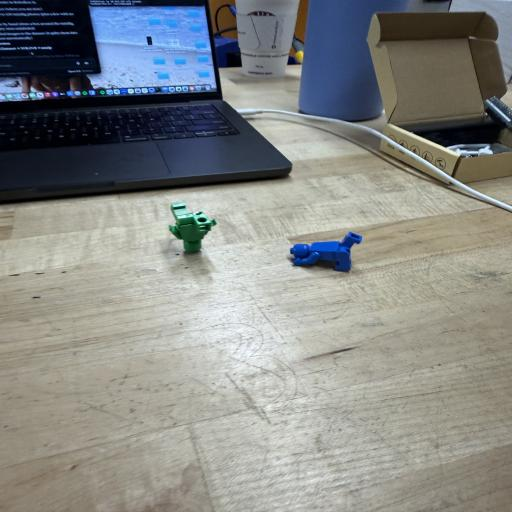blue-minifig: (291, 232, 362, 270)
green-minifig: (169, 202, 216, 252)
